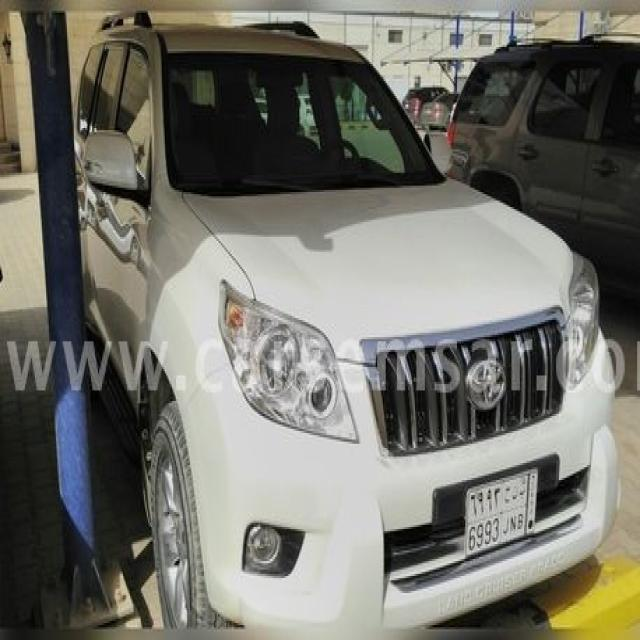license_plate: (462, 465, 540, 561)
